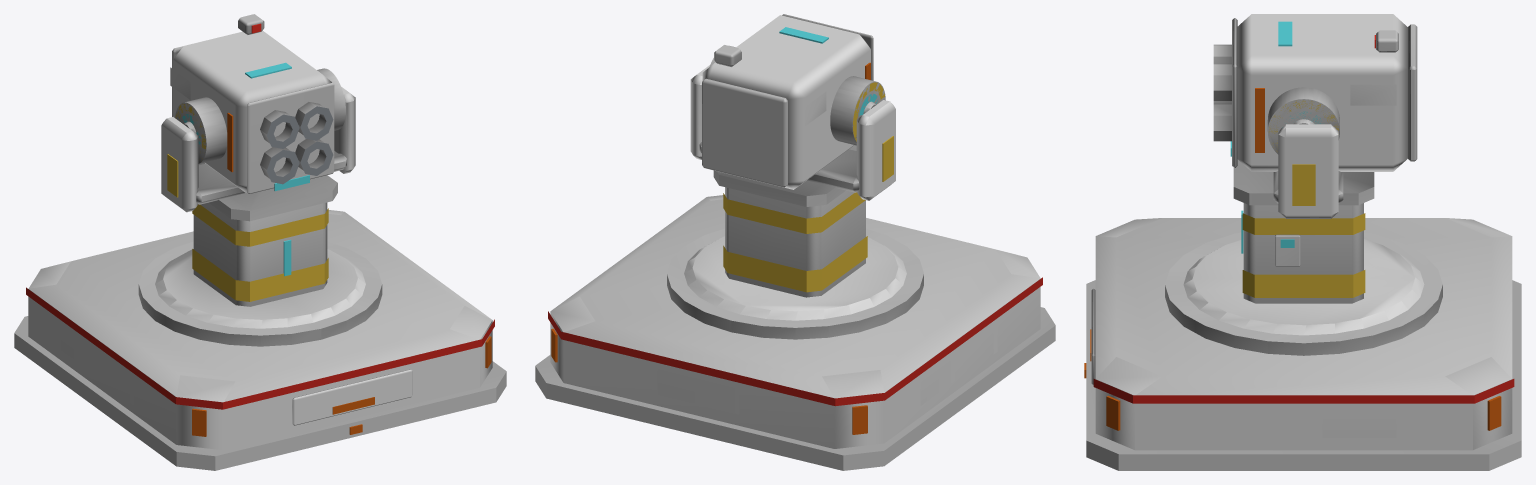
The model's file is mortar_0.glb.
3 renders of one model, left to right at view 1: azimuth 30°, elevation 25°; view 2: azimuth 150°, elevation 25°; view 3: azimuth 270°, elevation 25°, orthographic. The views are drawn at different scales.
Parts seen in each view (by area): view 1: Rumpf, Saeule, Werfer, Gelenk; view 2: Rumpf, Werfer, Saeule, Gelenk; view 3: Rumpf, Werfer, Saeule, Gelenk.
Boxes of the visible parts, bbox=[...] form: Rumpf: bbox=[14, 210, 506, 470]; Saeule: bbox=[161, 87, 355, 306]; Werfer: bbox=[170, 14, 334, 193]; Gelenk: bbox=[175, 68, 345, 163]; Rumpf: bbox=[535, 195, 1055, 470]; Werfer: bbox=[702, 14, 873, 189]; Saeule: bbox=[690, 65, 895, 297]; Gelenk: bbox=[709, 45, 885, 145]; Rumpf: bbox=[1084, 218, 1521, 470]; Werfer: bbox=[1213, 14, 1417, 171]; Saeule: bbox=[1233, 124, 1374, 303]; Gelenk: bbox=[1267, 87, 1339, 154].
Size of the model in its own units: 0.94 by 0.8575 by 0.944.
